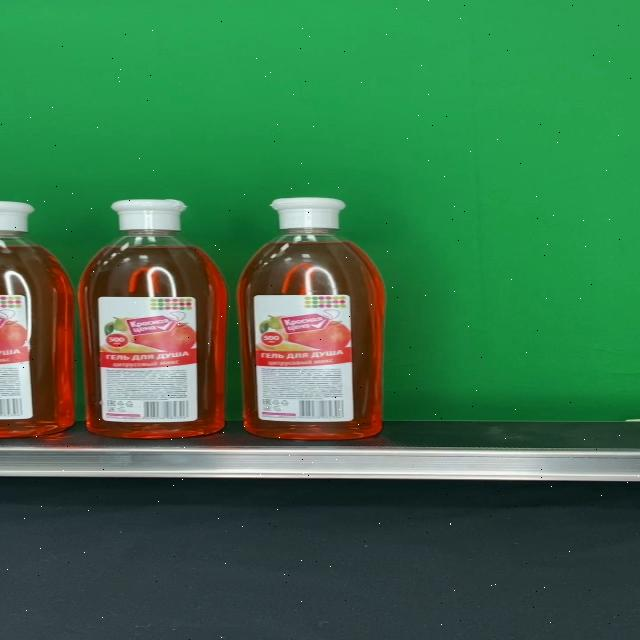Bottle: (77, 199, 228, 439), (237, 197, 386, 440)
Cap: (110, 199, 188, 231), (270, 198, 347, 230)
